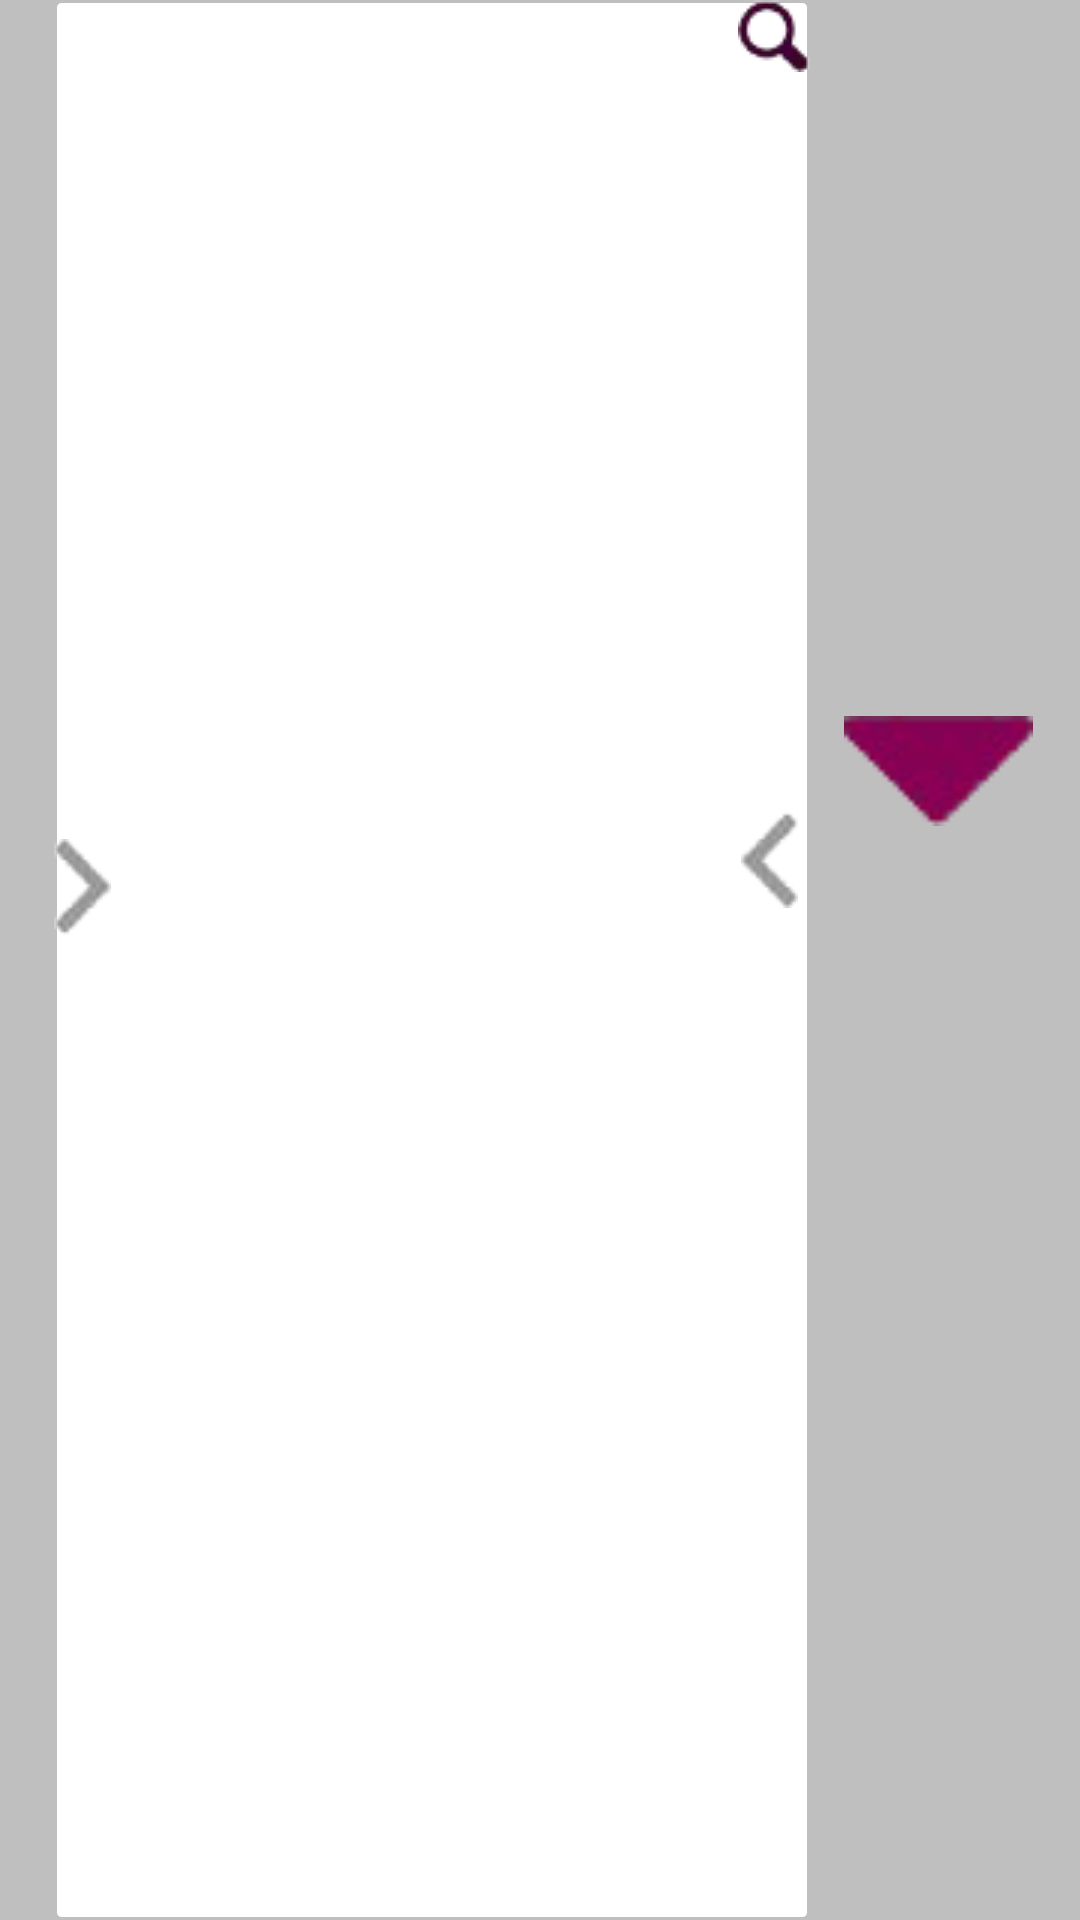

Icons on this 1080px×1920px Android screen, each with the point to tap as (x,y):
down arrow: (938,771)
left arrow: (769,861)
right arrow: (82,887)
search: (774,36)
